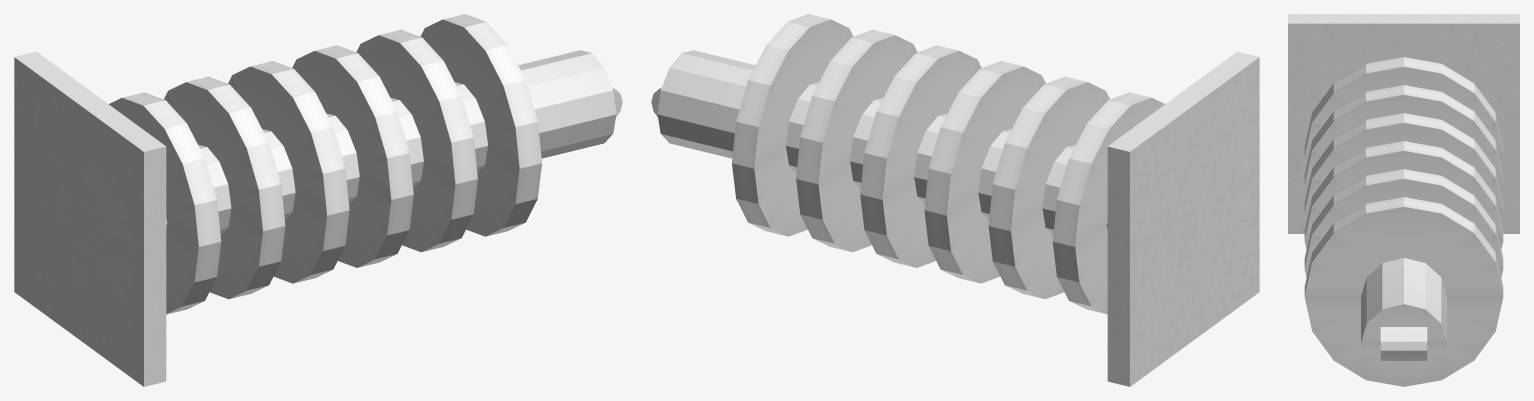
The model's file is lineinsulator69000.obj.
3 renders of one model, left to right at view 1: azimuth 30°, elevation 25°; view 2: azimuth 150°, elevation 25°; view 3: azimuth 270°, elevation 25°, orthographic. The views are drawn at different scales.
Visible parts, largest first — view 1: Porcelain, main; view 2: Porcelain, main; view 3: Porcelain, main, Clamp.
Part boxes in pixels (x1,y1,x2,y2): Porcelain: [23, 14, 616, 330]; main: [14, 51, 166, 386]; Porcelain: [657, 14, 1250, 330]; main: [1107, 51, 1259, 386]; Porcelain: [1304, 40, 1503, 386]; main: [1288, 14, 1519, 233]; Clamp: [1380, 327, 1427, 360].
Bounding box in the file's own units: 0.827 × 0.35 × 0.35.
